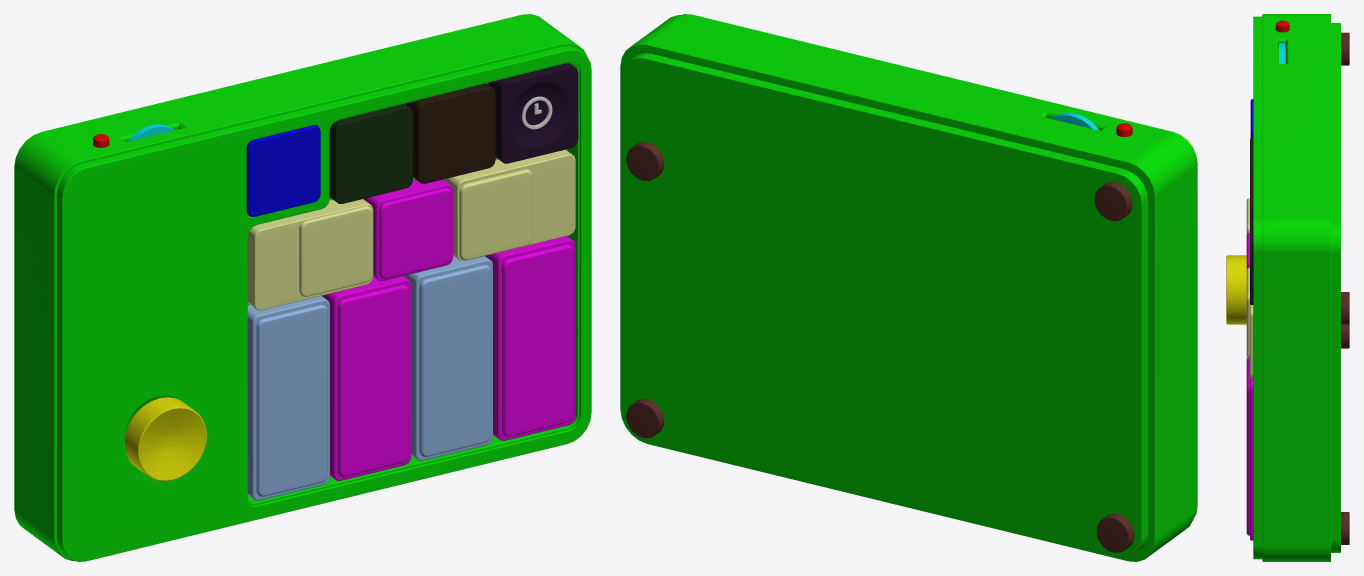
The model's file is HI_CORD_HIGH.fbx.
3 views of the same model, side by side, from view 1: azimuth 30°, elevation 25°; view 2: azimuth 150°, elevation 25°; view 3: azimuth 270°, elevation 25° (orthographic). The views are drawn at different scales.
Parts seen in each view (by area): view 1: HiChord_Hi_Geo; view 2: HiChord_Hi_Geo; view 3: HiChord_Hi_Geo.
Boxes of the visible parts, left/top/right/bottom form: HiChord_Hi_Geo: left=14, top=14, right=591, bottom=561; HiChord_Hi_Geo: left=620, top=14, right=1197, bottom=561; HiChord_Hi_Geo: left=1226, top=14, right=1349, bottom=561.
Size of the model in its own units: 10.98 by 7.99 by 2.56.
